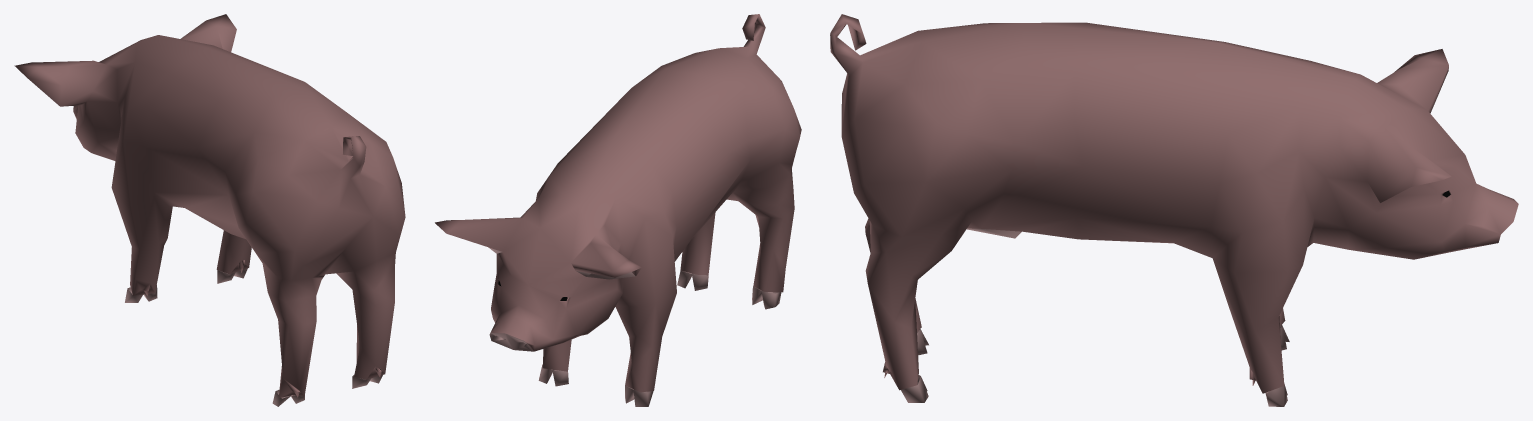
The model's file is pig.obj.
The picture shows the model from 3 angles, left to right: view 1: azimuth 30°, elevation 25°; view 2: azimuth 150°, elevation 25°; view 3: azimuth 270°, elevation 25°; orthographic projection. The views are drawn at different scales.
Visible parts, largest first — view 1: pig_pig_Material.001, pig_pig_feet; view 2: pig_pig_Material.001, pig_pig_feet; view 3: pig_pig_Material.001, pig_pig_feet.
Boxes of the visible parts, x1=… form: pig_pig_Material.001: x1=14, y1=14, x2=405, y2=398; pig_pig_feet: x1=125, y1=268, x2=382, y2=406; pig_pig_Material.001: x1=435, y1=14, x2=801, y2=392; pig_pig_feet: x1=488, y1=247, x2=781, y2=406; pig_pig_Material.001: x1=830, y1=14, x2=1518, y2=393; pig_pig_feet: x1=901, y1=228, x2=1289, y2=406.
Bounding box in the file's own units: 0.5347 × 0.6744 × 1.18.
